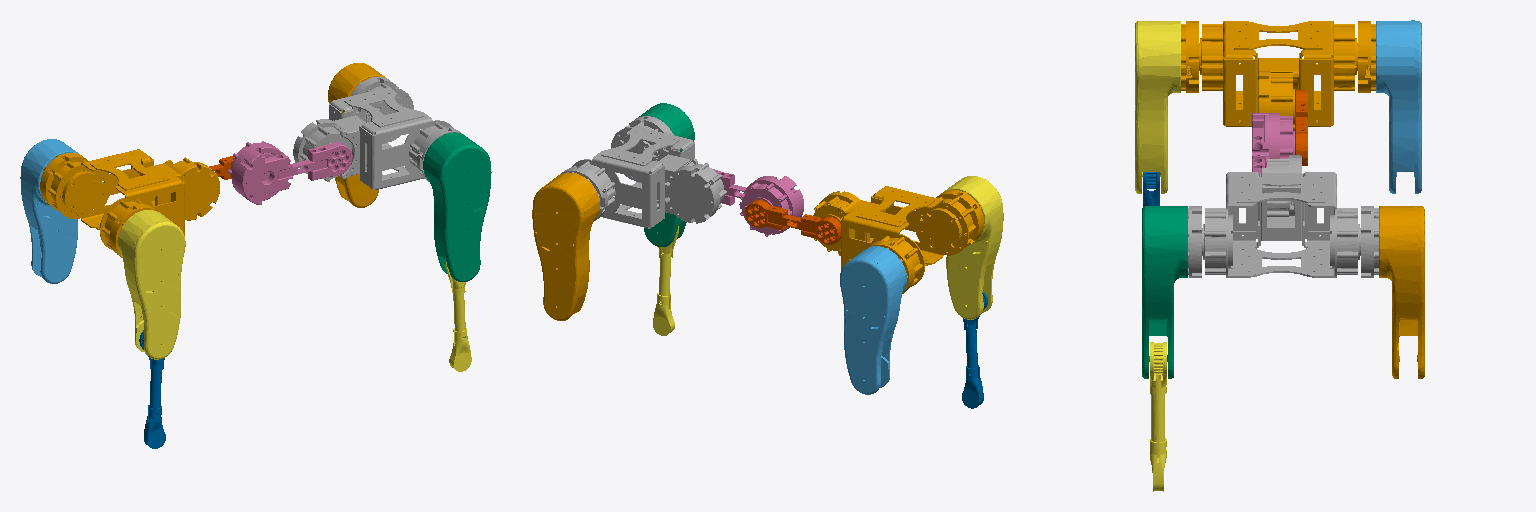
URDF robot description (spined_dog):
<?xml version="1.0" ?>
<robot name="spined_dog">
  <mujoco>
    <compiler meshdir="./meshes/" balanceinertia="true" discardvisual="false" fusestatic="false"/>
  </mujoco>

  <!-- Hind Body -->
  <link name="hind_body">
    <inertial>
      <origin xyz="0 0 0" rpy="0 0 0"/>
      <mass value="1.984"/>
      <inertia ixx="0.01547635" iyy="0.00747572" izz="0.02098524" 
        ixy="0" iyz="0" ixz="0"/>
    </inertial>
    <visual>
      <origin xyz="0 0 0" rpy="0 0 0"/>
      <geometry>
        <mesh filename="meshes/simplify_sim_hind_body.stl" scale="0.001 0.001 0.001"/>
      </geometry>
      
    </visual>
    <collision>
      <origin xyz="0 0 0" rpy="0 0 0"/>
      <geometry>
        <mesh filename="meshes/simplify_sim_hind_body.stl" scale="0.001 0.001 0.001"/>
      </geometry>
    </collision>
  </link>

  <joint name="joint_hind_left_leg_upper" type="revolute">
    <parent link="hind_body"/>
    <child link="hind_left_leg_upper"/>
    <limit effort="1000" lower="-10" upper="10" velocity="1000"/>
    <!-- joints rotates around the y-axis -->
    <axis xyz="0 1 0"/>
    <origin rpy="0 -1.57 0" xyz="-0.033679841 0.136689830 0.000000820"/>
    <!-- pybullet simulation parameters -->
    <dynamics damping="0.0" friction="0.0"/>
  </joint>

  <!-- Hind Left Leg -->
  <link name="hind_left_leg_upper">
    <inertial>
      <origin xyz="-0.05829842 0.01014064 -0.00091992" rpy="0 0 0"/>
      <mass value="0.15"/>
      <inertia ixx="0.00011593" iyy="0.00056031" izz="0.00051694" 
        ixy="0.00000315" iyz="0.00000114" ixz="-0.00001841"/>
    </inertial>
    <visual>
      <origin xyz="0 0 0" rpy="0 0 0"/>
      <geometry>
        <mesh filename="meshes/simplify_sim_hind_left_leg_upper.stl"
          scale="0.001 0.001 0.001"/>
      </geometry>
      
    </visual>
    <collision>
      <origin xyz="0 0 0" rpy="0 0 0"/>
      <geometry>
        <mesh filename="meshes/simplify_sim_hind_left_leg_upper.stl"
          scale="0.001 0.001 0.001"/>
      </geometry>
    </collision>
  </link>

  <joint name="joint_hind_left_leg_lower" type="revolute">
    <parent link="hind_left_leg_upper"/>
    <child link="hind_left_leg_lower"/>
    <limit effort="1000" lower="-10" upper="10" velocity="1000"/>
    <!-- joints rotates around the y-axis -->
    <axis xyz="0 1 0"/>
    <origin rpy="0 0 0" xyz="-0.151 0.012 0.0"/>
    <!-- pybullet simulation parameters -->
    <dynamics damping="0.0" friction="0.0"/>
  </joint>

  <link name="hind_left_leg_lower">
    <inertial>
      <origin xyz="-0.062232355 0 0" rpy="0 0 0"/>
      <mass value="0.035"/>
      <inertia ixx="0.00000335" iyy="0.00014425" izz="0.00014301" 
        ixy="0" iyz="0" ixz="0"/>
    </inertial>
    <visual>
      <origin xyz="0 0 0" rpy="0 0 0"/>
      <geometry>
        <mesh filename="meshes/simplify_sim_hind_left_leg_lower.stl"
          scale="0.001 0.001 0.001"/>
      </geometry>
      
    </visual>
    <collision>
      <origin xyz="0 0 0" rpy="0 0 0"/>
      <geometry>
        <mesh filename="meshes/simplify_sim_hind_left_leg_lower.stl"
          scale="0.001 0.001 0.001"/>
      </geometry>
    </collision>
  </link>

  <joint name="joint_hind_right_leg_upper" type="revolute">
    <parent link="hind_body"/>
    <child link="hind_right_leg_upper"/>
    <limit effort="1000" lower="-10" upper="10" velocity="1000"/>
    <!-- joints rotates around the y-axis -->
    <axis xyz="0 1 0"/>
    <origin rpy="0 -1.57 0" xyz="-0.033679841 -0.137310170 0.000000820"/>
    <!-- pybullet simulation parameters -->
    <dynamics damping="0.0" friction="0.0"/>
  </joint>

  <!-- Hind Right Leg -->
  <link name="hind_right_leg_upper">
    <inertial>
      <origin xyz="-0.05829807 -0.01014064 -0.00091924" rpy="0 0 0"/>
      <mass value="0.15"/>
      <inertia ixx="0.00011591" iyy="0.00056028" izz="0.00051693" 
        ixy="-0.00000315" iyz="-0.00000114" ixz="-0.00001841"/>
    </inertial>
    <visual>
      <origin xyz="0 0 0" rpy="0 0 0"/>
      <geometry>
        <mesh filename="meshes/simplify_sim_hind_right_leg_upper.stl"
          scale="0.001 0.001 0.001"/>
      </geometry>
      
    </visual>
    <collision>
      <origin xyz="0 0 0" rpy="0 0 0"/>
      <geometry>
        <mesh filename="meshes/simplify_sim_hind_right_leg_upper.stl"
          scale="0.001 0.001 0.001"/>
      </geometry>
    </collision>
  </link>

  <joint name="joint_hind_right_leg_lower" type="revolute">
    <parent link="hind_right_leg_upper"/>
    <child link="hind_right_leg_lower"/>
    <limit effort="1000" lower="-10" upper="10" velocity="1000"/>
    <!-- joints rotates around the y-axis -->
    <axis xyz="0 1 0"/>
    <origin rpy="0 0 0" xyz="-0.151 -0.012 0.0"/>
    <!-- pybullet simulation parameters -->
    <dynamics damping="0.0" friction="0.0"/>
  </joint>

  <link name="hind_right_leg_lower">
    <inertial>
      <origin xyz="-0.062232355 0 0" rpy="0 0 0"/>
      <mass value="0.035"/>
      <inertia ixx="0.00000335" iyy="0.00014425" izz="0.00014301" 
        ixy="0" iyz="0" ixz="0"/>
    </inertial>
    <visual>
      <origin xyz="0 0 0" rpy="0 0 0"/>
      <geometry>
        <mesh filename="meshes/simplify_sim_hind_right_leg_lower.stl"
          scale="0.001 0.001 0.001"/>
      </geometry>
      
    </visual>
    <collision>
      <origin xyz="0 0 0" rpy="0 0 0"/>
      <geometry>
        <mesh filename="meshes/simplify_sim_hind_right_leg_lower.stl"
          scale="0.001 0.001 0.001"/>
      </geometry>
    </collision>
  </link>

  <joint name="joint_hind_spine" type="revolute">
    <parent link="hind_body"/>
    <child link="hind_spine"/>
    <limit effort="1000" lower="-10" upper="10" velocity="1000"/>
    <!-- joints rotates around the y-axis -->
    <axis xyz="0 1 0"/>
    <origin rpy="0 0 0" xyz="0.105620295 0.019439829 0.000000819"/>
    <!-- pybullet simulation parameters -->
    <dynamics damping="0.0" friction="0.0"/>
  </joint>

  <!-- Hind Spine -->
  <link name="hind_spine">
    <inertial>
      <origin xyz="0.05875 0.00728531 0" rpy="0 0 0"/>
      <mass value="0.059"/>
      <inertia ixx="0.00000769" iyy="0.00030789" izz="0.00030842"
        ixy="-0.00002525" iyz="0" ixz="-0.00000026"/>
    </inertial>
    <visual>
      <origin xyz="0 0 0" rpy="0 0 0"/>
      <geometry>
        <mesh filename="meshes/simplify_sim_hind_spine.stl"
          scale="0.001 0.001 0.001"/>
      </geometry>
      
    </visual>
    <collision>
      <origin xyz="0 0 0" rpy="0 0 0"/>
      <geometry>
        <mesh filename="meshes/simplify_sim_hind_spine.stl"
          scale="0.001 0.001 0.001"/>
      </geometry>
    </collision>
  </link>

  <joint name="joint_front_spine" type="revolute">
    <parent link="hind_spine"/>
    <child link="front_spine"/>
    <limit effort="1000" lower="-10" upper="10" velocity="1000"/>
    <!-- joints rotates around the y-axis -->
    <axis xyz="0 1 0"/>
    <origin rpy="0 0 0" xyz="0.1175 0 0"/>
    <!-- pybullet simulation parameters -->
    <dynamics damping="0.0" friction="0.0"/>
  </joint>

  <!-- Front Spine -->
  <link name="front_spine">
    <inertial>
      <origin xyz="0.00874180 -0.02174997 0" rpy="0 0 0"/>
      <mass value="0.414"/>
      <inertia ixx="0.00020593" iyy="0.00058390" izz="0.00052443" 
        ixy="0.00007556" iyz="0" ixz="0"/>
    </inertial>
    <visual>
      <origin xyz="0 0 0" rpy="0 0 0"/>
      <geometry>
        <mesh filename="meshes/simplify_sim_front_spine.stl"
          scale="0.001 0.001 0.001"/>
      </geometry>
      
    </visual>
    <collision>
      <origin xyz="0 0 0" rpy="0 0 0"/>
      <geometry>
        <mesh filename="meshes/simplify_sim_front_spine.stl"
          scale="0.001 0.001 0.001"/>
      </geometry>
    </collision>
  </link>

  <joint name="joint_front_body" type="revolute">
    <parent link="front_spine"/>
    <child link="front_body"/>
    <limit effort="1000" lower="-10" upper="10" velocity="1000"/>
    <!-- joints rotates around the y-axis -->
    <axis xyz="0 1 0"/>
    <origin rpy="0 0 0" xyz="0.1175 -0.036 0"/>
    <!-- pybullet simulation parameters -->
    <dynamics damping="0.0" friction="0.0"/>
  </joint>

  <!-- Front Body -->
  <link name="front_body">
    <inertial>
      <origin xyz="0.10562029 0.01943983 0.00000082" rpy="0 0 0"/>
      <mass value="1.984"/>
      <inertia ixx="0.01547636" iyy="0.00747572" izz="0.02098524"
        ixy="0" iyz="0" ixz="0"/>
    </inertial>
    <visual>
      <origin xyz="0 0 0" rpy="0 0 0"/>
      <geometry>
        <mesh filename="meshes/simplify_sim_front_body.stl"
          scale="0.001 0.001 0.001"/>
      </geometry>
      
    </visual>
    <collision>
      <origin xyz="0 0 0" rpy="0 0 0"/>
      <geometry>
        <mesh filename="meshes/simplify_sim_front_body.stl"
          scale="0.001 0.001 0.001"/>
      </geometry>
    </collision>
  </link>

  <joint name="joint_front_left_leg_upper" type="revolute">
    <parent link="front_body"/>
    <child link="front_left_leg_upper"/>
    <limit effort="1000" lower="-10" upper="10" velocity="1000"/>
    <!-- joints rotates around the y-axis -->
    <axis xyz="0 1 0"/>
    <origin rpy="0 1.57 0" xyz="0.139300137 0.15675 0"/>
    <!-- pybullet simulation parameters -->
    <dynamics damping="0.0" friction="0.0"/>
  </joint>

  <!-- Front Left Leg -->
  <link name="front_left_leg_upper">
    <inertial>
      <origin xyz="0.05829807 0.01014064 -0.00091924" rpy="0 0 0"/>
      <mass value="0.15"/>
      <inertia ixx="0.00011591" iyy="0.00056028" izz="0.00051693" 
        ixy="-0.00000315" iyz="0.00000114" ixz="0.00001841"/>
    </inertial>
    <visual>
      <origin xyz="0 0 0" rpy="0 0 0"/>
      <geometry>
        <mesh filename="meshes/simplify_sim_front_left_leg_upper.stl"
          scale="0.001 0.001 0.001"/>
      </geometry>
      
    </visual>
    <collision>
      <origin xyz="0 0 0" rpy="0 0 0"/>
      <geometry>
        <mesh filename="meshes/simplify_sim_front_left_leg_upper.stl"
          scale="0.001 0.001 0.001"/>
      </geometry>
    </collision>
  </link>

  <joint name="joint_front_left_leg_lower" type="revolute">
    <parent link="front_left_leg_upper"/>
    <child link="front_left_leg_lower"/>
    <limit effort="1000" lower="-10" upper="10" velocity="1000"/>
    <!-- joints rotates around the y-axis -->
    <axis xyz="0 1 0"/>
    <origin rpy="0 0 0" xyz="0.151 0.012 0.0"/>
    <!-- pybullet simulation parameters -->
    <dynamics damping="0.0" friction="0.0"/>
  </joint>

  <link name="front_left_leg_lower">
    <inertial>
      <origin xyz="0.062232355 0 0" rpy="0 0 0"/>
      <mass value="0.035"/>
      <inertia ixx="0.00000335" iyy="0.00014301" izz="0.00014425"
        ixy="0" iyz="0" ixz="0"/>
    </inertial>
    <visual>
      <origin xyz="0 0 0" rpy="0 0 0"/>
      <geometry>
        <mesh filename="meshes/simplify_sim_front_left_leg_lower.stl"
          scale="0.001 0.001 0.001"/>
      </geometry>
      
    </visual>
    <collision>
      <origin xyz="0 0 0" rpy="0 0 0"/>
      <geometry>
        <mesh filename="meshes/simplify_sim_front_left_leg_lower.stl"
          scale="0.001 0.001 0.001"/>
      </geometry>
    </collision>
  </link>

  <joint name="joint_front_right_leg_upper" type="revolute">
    <parent link="front_body"/>
    <child link="front_right_leg_upper"/>
    <limit effort="1000" lower="-10" upper="10" velocity="1000"/>
    <!-- joints rotates around the y-axis -->
    <axis xyz="0 1 0"/>
    <origin rpy="0 1.57 0" xyz="0.139300137 -0.11275 0"/>
    <!-- pybullet simulation parameters -->
    <dynamics damping="0.0" friction="0.0"/>
  </joint>

  <!-- Front Right Leg -->
  <link name="front_right_leg_upper">
    <inertial>
      <origin xyz="0.05829842 -0.01014064 -0.00091992" rpy="0 0 0"/>
      <mass value="0.15"/>
      <inertia ixx="0.00011593" iyy="0.00056031" izz="0.00051694"
        ixy="0.00000315" iyz="-0.00000114" ixz="0.00001841"/>
    </inertial>
    <visual>
      <origin xyz="0 0 0" rpy="0 0 0"/>
      <geometry>
        <mesh filename="meshes/simplify_sim_front_right_leg_upper.stl"
          scale="0.001 0.001 0.001"/>
      </geometry>
      
    </visual>
    <collision>
      <origin xyz="0 0 0" rpy="0 0 0"/>
      <geometry>
        <mesh filename="meshes/simplify_sim_front_right_leg_upper.stl"
          scale="0.001 0.001 0.001"/>
      </geometry>
    </collision>
  </link>

  <joint name="joint_front_right_leg_lower" type="revolute">
    <parent link="front_right_leg_upper"/>
    <child link="front_right_leg_lower"/>
    <limit effort="1000" lower="-10" upper="10" velocity="1000"/>
    <!-- joints rotates around the y-axis -->
    <axis xyz="0 1 0"/>
    <origin rpy="0 0 0" xyz="0.151 -0.012 0.0"/>
    <!-- pybullet simulation parameters -->
    <dynamics damping="0.0" friction="0.0"/>
  </joint>

  <link name="front_right_leg_lower">
    <inertial>
      <origin xyz="0.062232355 0 0" rpy="0 0 0"/>
      <mass value="0.035"/>
      <inertia ixx="0.00000335" iyy="0.00014425" izz="0.00014301"
        ixy="0" iyz="0" ixz="0"/>
    </inertial>
    <visual>
      <origin xyz="0 0 0" rpy="0 0 0"/>
      <geometry>
        <mesh filename="meshes/simplify_sim_front_right_leg_lower.stl"
          scale="0.001 0.001 0.001"/>
      </geometry>
      
    </visual>
    <collision>
      <origin xyz="0 0 0" rpy="0 0 0"/>
      <geometry>
        <mesh filename="meshes/simplify_sim_front_right_leg_lower.stl"
          scale="0.001 0.001 0.001"/>
      </geometry>
    </collision>
  </link>

</robot>

--- Facts derived from the render (not from the file) ---
The picture shows the robot from 3 angles, left to right: view 1: azimuth 30°, elevation 25°; view 2: azimuth 150°, elevation 25°; view 3: azimuth 270°, elevation 25°; orthographic projection.
Model spined_dog with 12 links and 11 joints (11 revolute), rooted at hind_body, posed every joint at zero.
Visible links, largest first — view 1: hind_body, front_body, front_right_leg_upper, hind_right_leg_upper, hind_left_leg_upper, front_spine, front_left_leg_upper, hind_right_leg_lower, front_right_leg_lower; view 2: front_body, hind_body, hind_left_leg_upper, front_left_leg_upper, hind_right_leg_upper, front_spine, hind_spine, front_right_leg_upper, hind_right_leg_lower, front_right_leg_lower; view 3: front_body, hind_body, hind_left_leg_upper, hind_right_leg_upper, front_left_leg_upper, front_right_leg_upper, front_right_leg_lower, front_spine, hind_spine, hind_right_leg_lower.
Boxes of the visible links, x1,y1,x2,y2 form: hind_body: (39, 149, 219, 257); front_body: (293, 77, 463, 189); front_right_leg_upper: (423, 132, 491, 281); hind_right_leg_upper: (118, 210, 185, 359); hind_left_leg_upper: (20, 139, 81, 283); front_spine: (228, 141, 352, 204); front_left_leg_upper: (328, 63, 385, 207); hind_right_leg_lower: (139, 330, 165, 448); front_right_leg_lower: (445, 260, 471, 371); front_body: (561, 116, 726, 228); hind_body: (813, 186, 984, 293); hind_left_leg_upper: (840, 246, 906, 394); front_left_leg_upper: (532, 172, 599, 320); hind_right_leg_upper: (944, 176, 1003, 319); front_spine: (713, 169, 803, 236); hind_spine: (745, 199, 840, 244); front_right_leg_upper: (639, 103, 694, 246); hind_right_leg_lower: (962, 290, 987, 408); front_right_leg_lower: (653, 226, 678, 335); front_body: (1188, 155, 1378, 277); hind_body: (1181, 21, 1375, 130); hind_left_leg_upper: (1376, 20, 1421, 193); hind_right_leg_upper: (1135, 21, 1180, 193); front_left_leg_upper: (1379, 206, 1424, 378); front_right_leg_upper: (1142, 206, 1187, 378); front_right_leg_lower: (1150, 342, 1166, 491); front_spine: (1252, 113, 1294, 173); hind_spine: (1295, 90, 1307, 165); hind_right_leg_lower: (1143, 172, 1159, 206).
Bounding box of the posed robot: 0.5999 × 0.3396 × 0.3697 m (x, y, z).
Meshes: 12 distinct files referenced, 10 mesh visuals loaded (10 binary STL); not drawn: 2 (reference not matched to a file when rendering).
